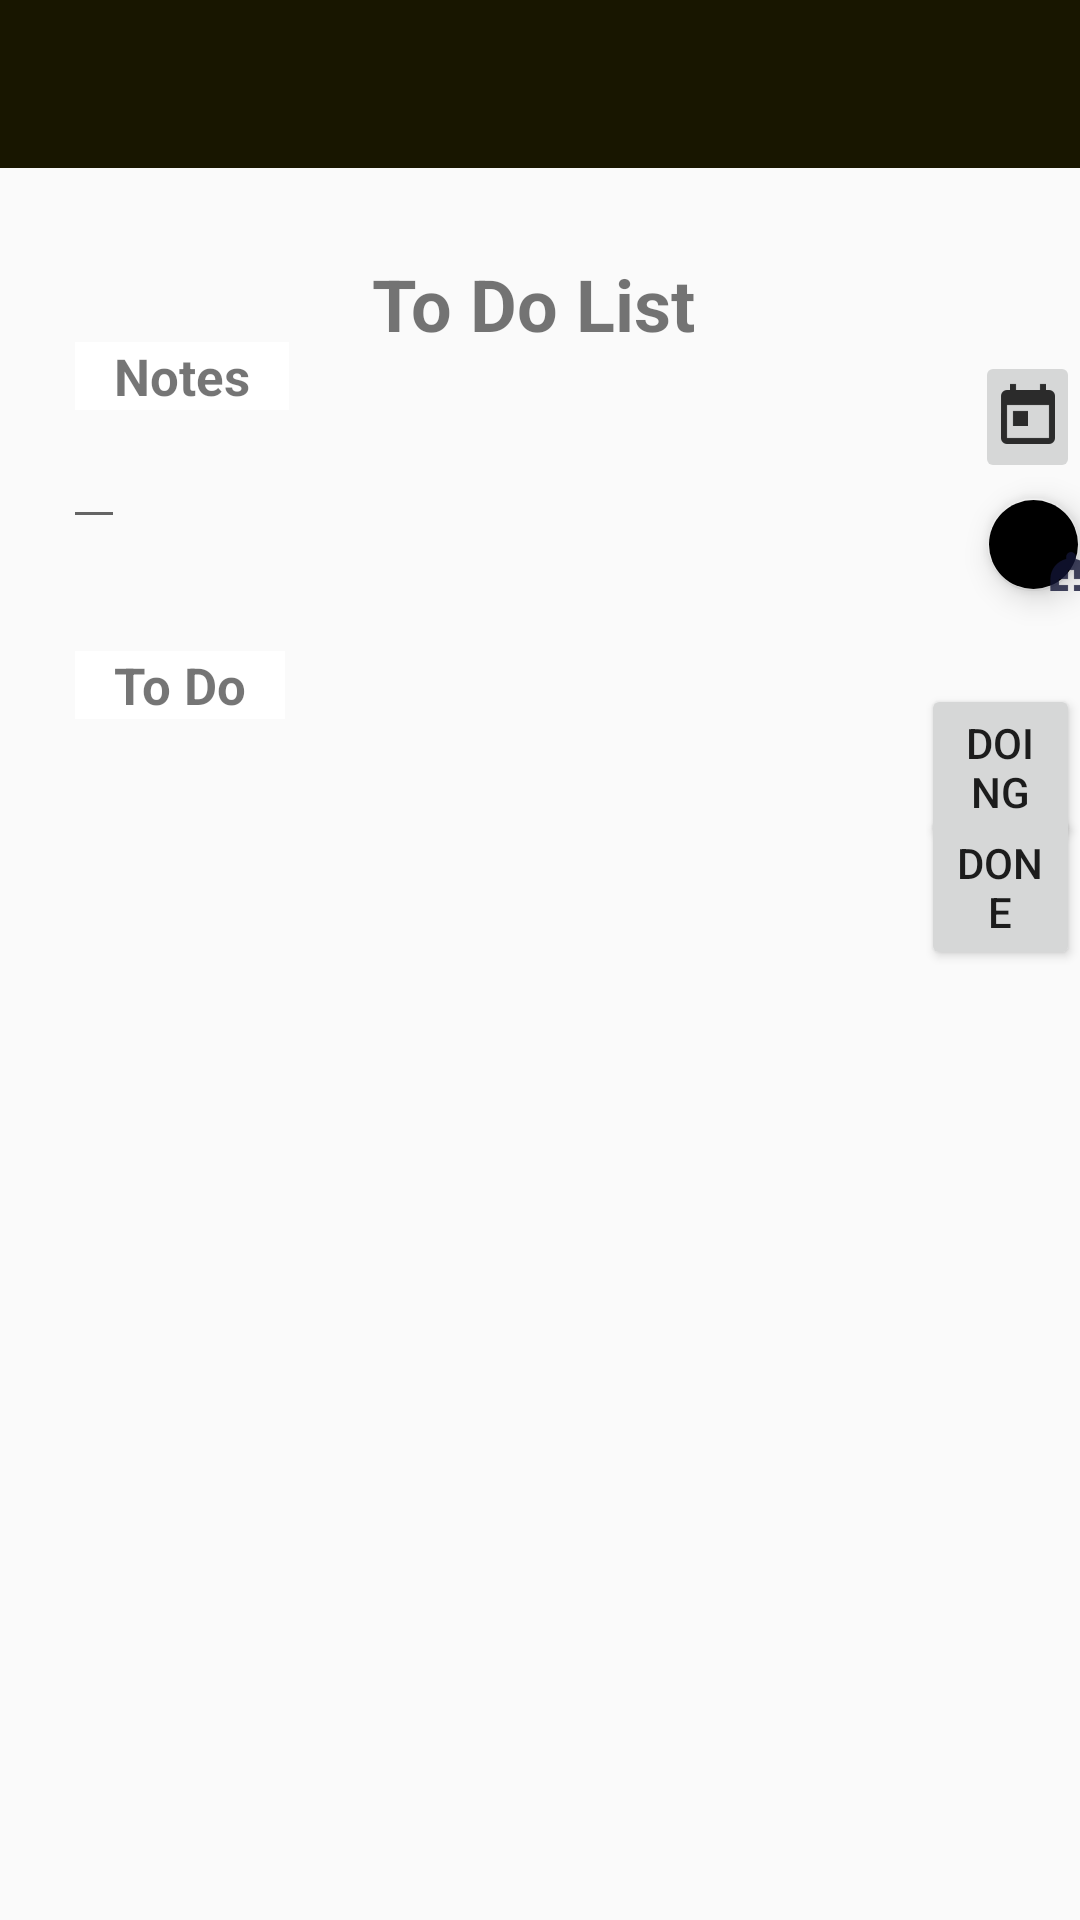

Screen size 1080 × 1920. Icon name, then its box in pixels as (x1, y1, x2, y2):
calendar: (987, 369, 1068, 465)
